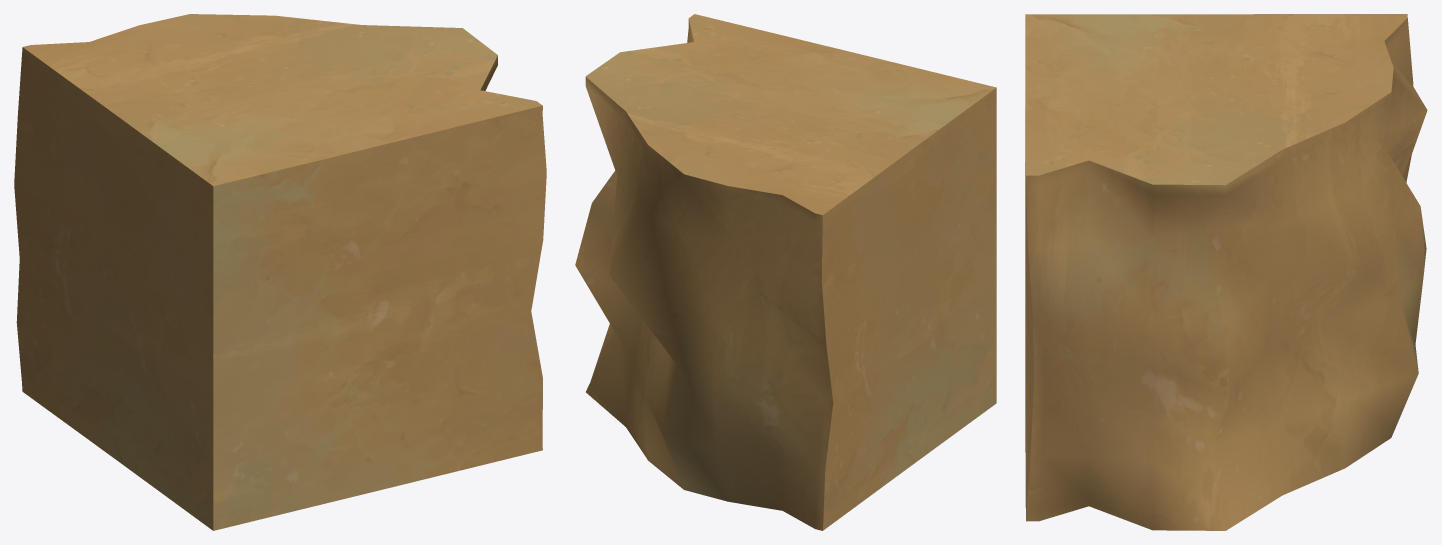
File: StoneEdge.fbx
3 views of the same model, side by side, from view 1: azimuth 30°, elevation 25°; view 2: azimuth 150°, elevation 25°; view 3: azimuth 270°, elevation 25° (orthographic). The views are drawn at different scales.
Parts seen in each view (by area): view 1: StoneEdge; view 2: StoneEdge; view 3: StoneEdge.
Boxes of the visible parts, bbox=[...] form: StoneEdge: bbox=[14, 14, 546, 530]; StoneEdge: bbox=[575, 14, 996, 530]; StoneEdge: bbox=[1025, 14, 1427, 530].
Bounding box in the file's own units: 222 × 200 × 211.
